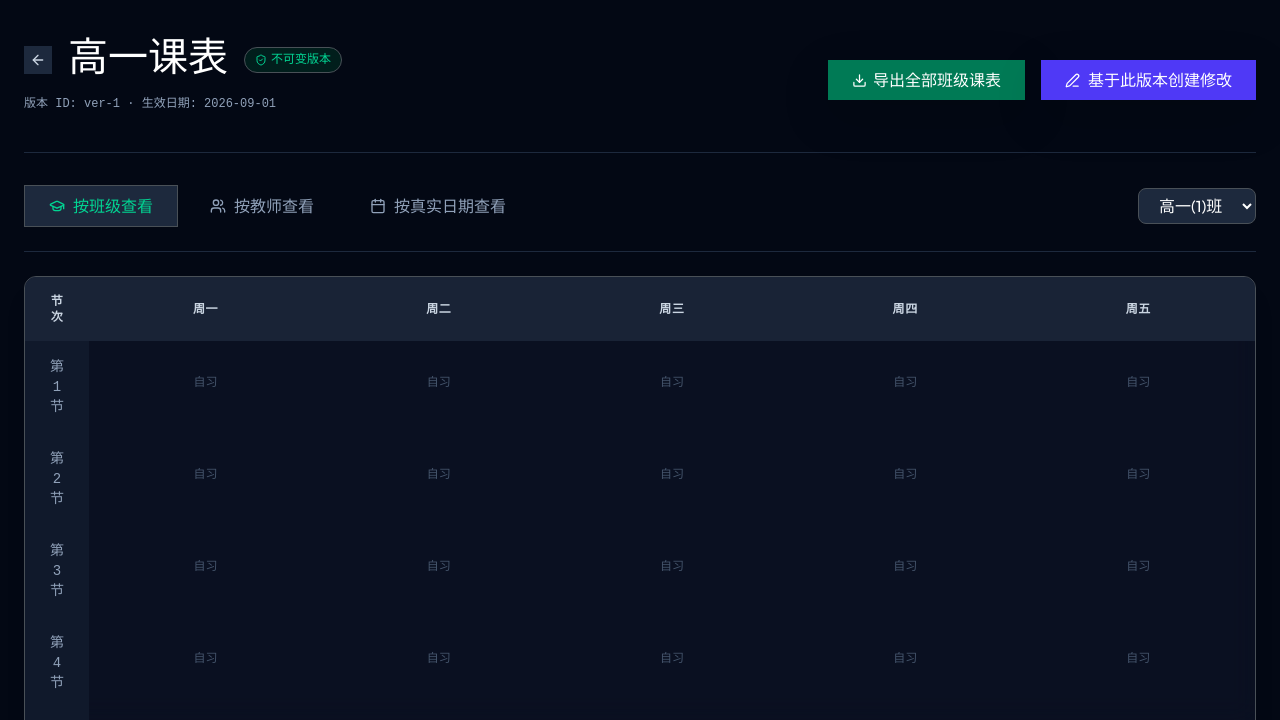
TimetablePage › renders calendar day view when switching to date tab and changing date to 2026-09-08
Click the button "按真实日期查看" at (438, 206), box [346, 185, 530, 227]
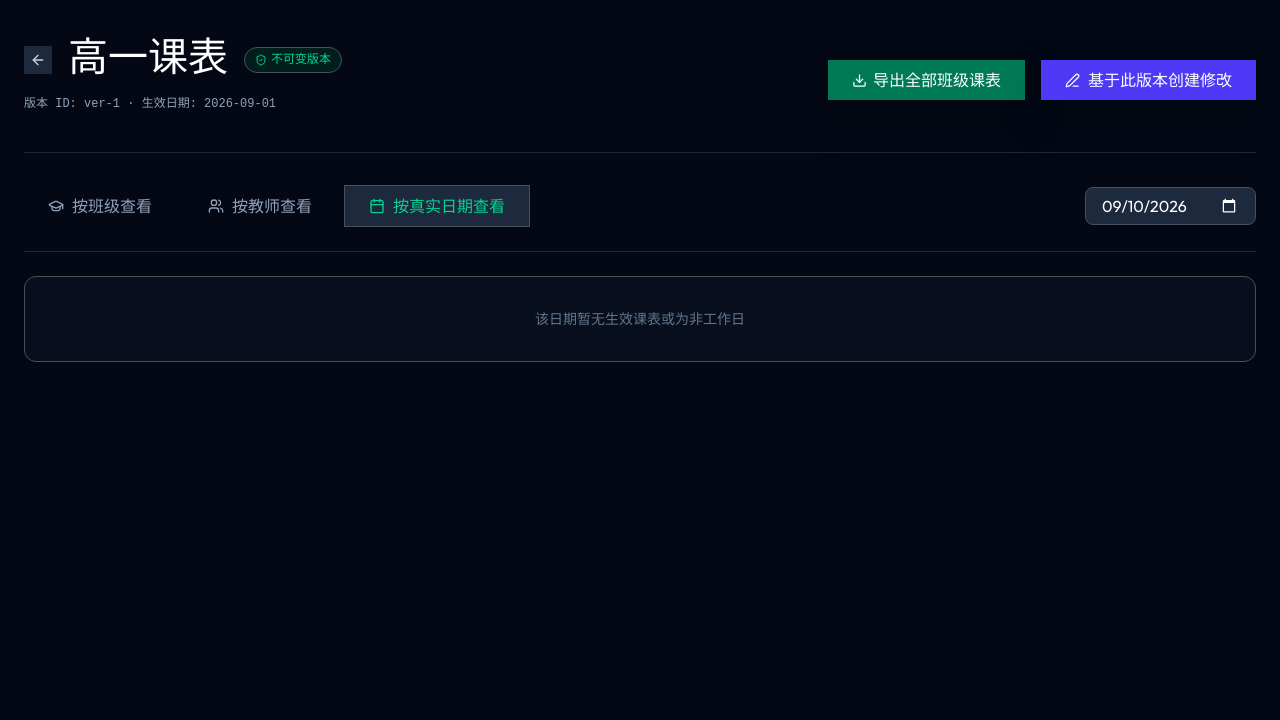
Result: the date field is shown
Type "2026-09-08" into the date field at (1170, 206), box [1085, 187, 1256, 225]
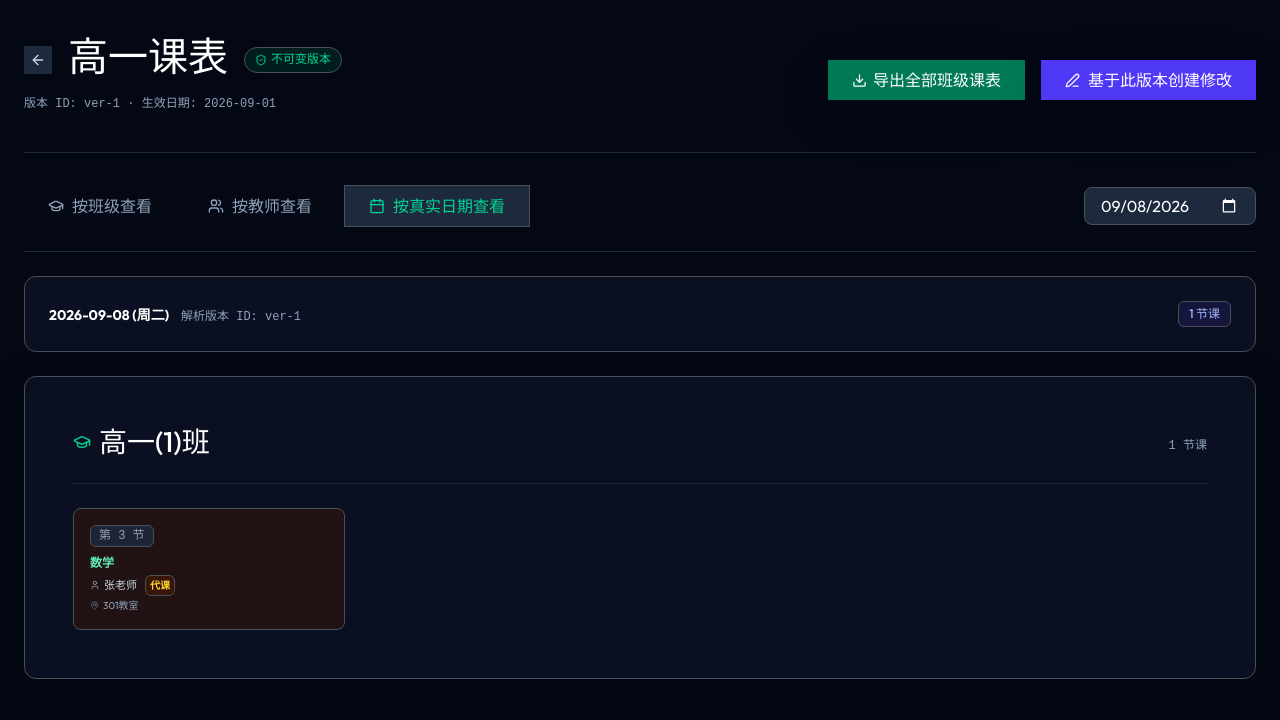
Result: the text "2026-09-08 (周二)" is shown at [49, 306, 169, 324]
Result: the heading "高一(1)班" is shown at [73, 425, 210, 459]
Result: the text "第 3 节" is shown at [90, 525, 154, 547]
